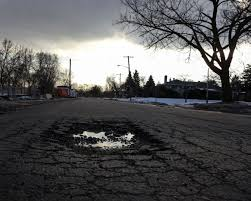pothole: (70, 125, 146, 156)
